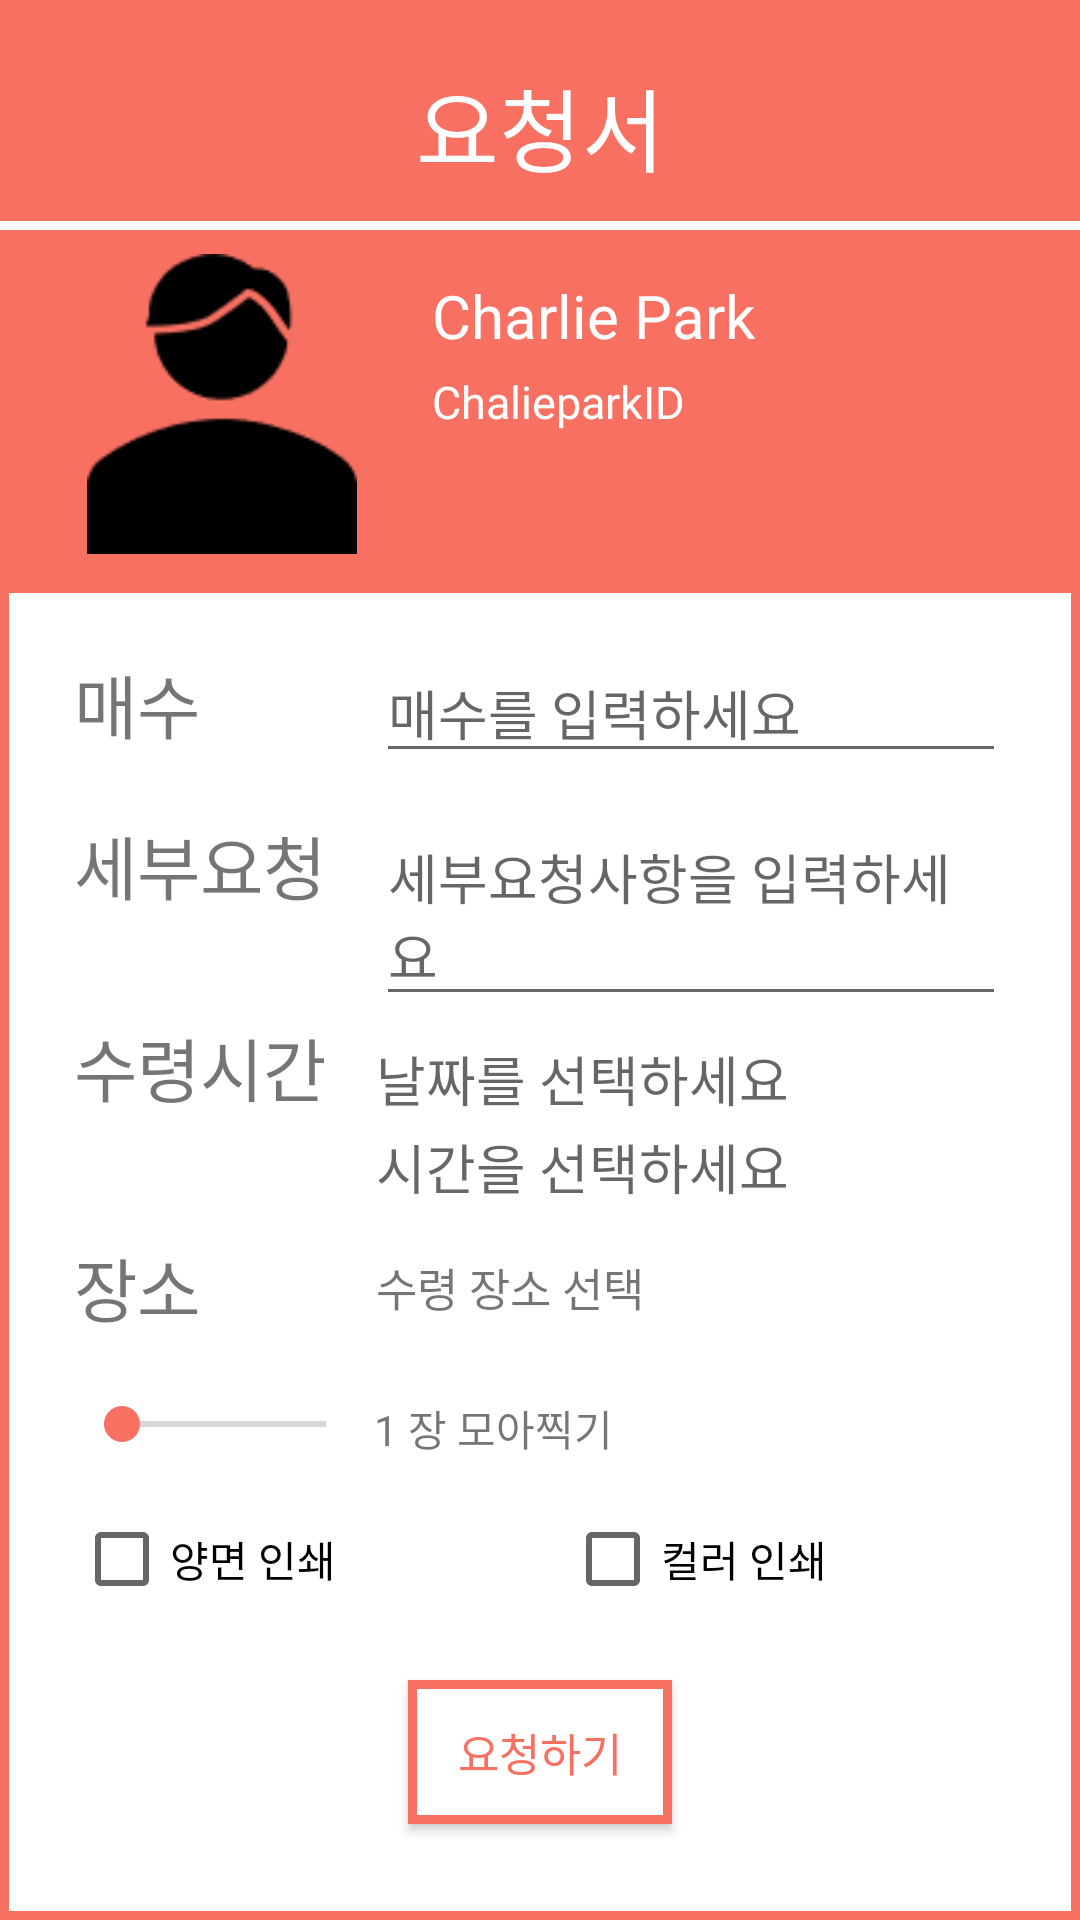

Locate icon controls on the screen. Image size 1080x1920, boxes as (x1, y1, x2, y2).
man: (87, 254, 357, 554)
